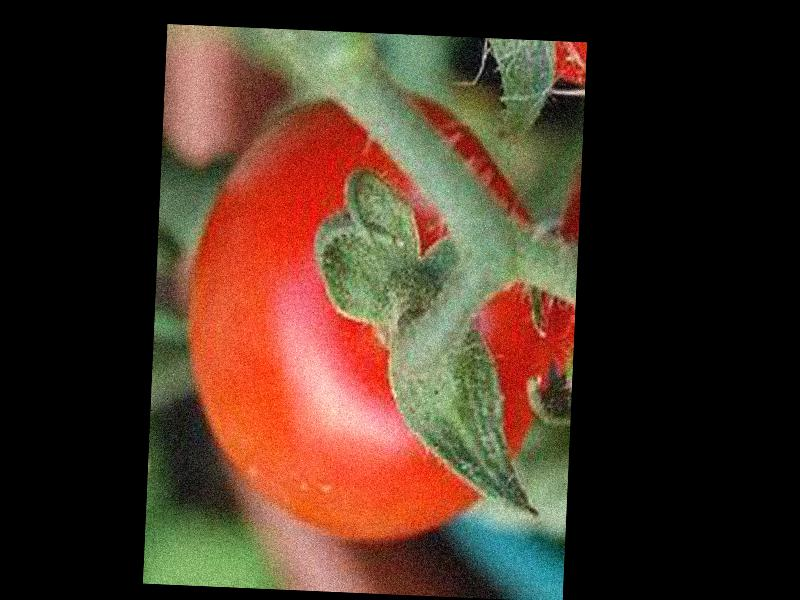Tomato: (180, 81, 574, 549)
